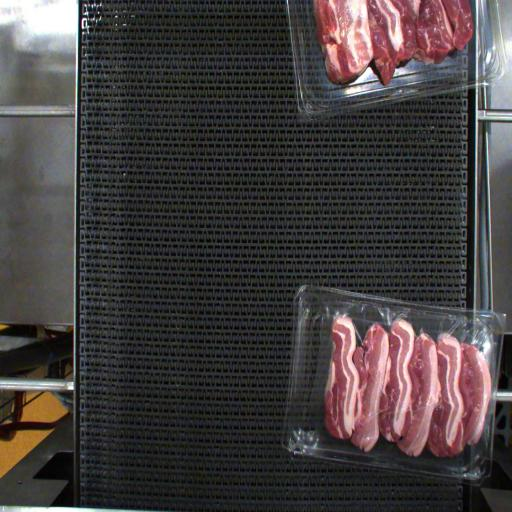unsealed: (304, 282, 484, 478)
